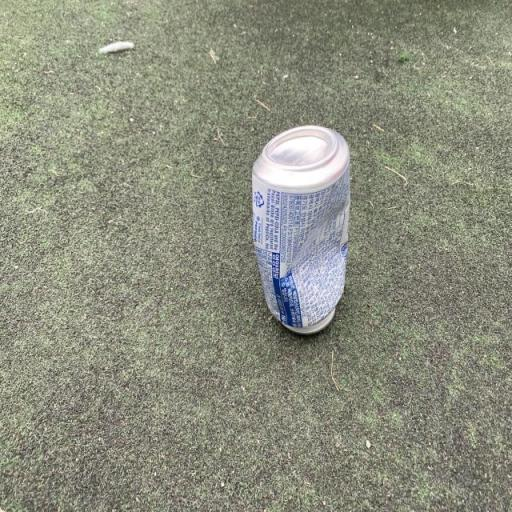metal: (240, 90, 376, 402)
